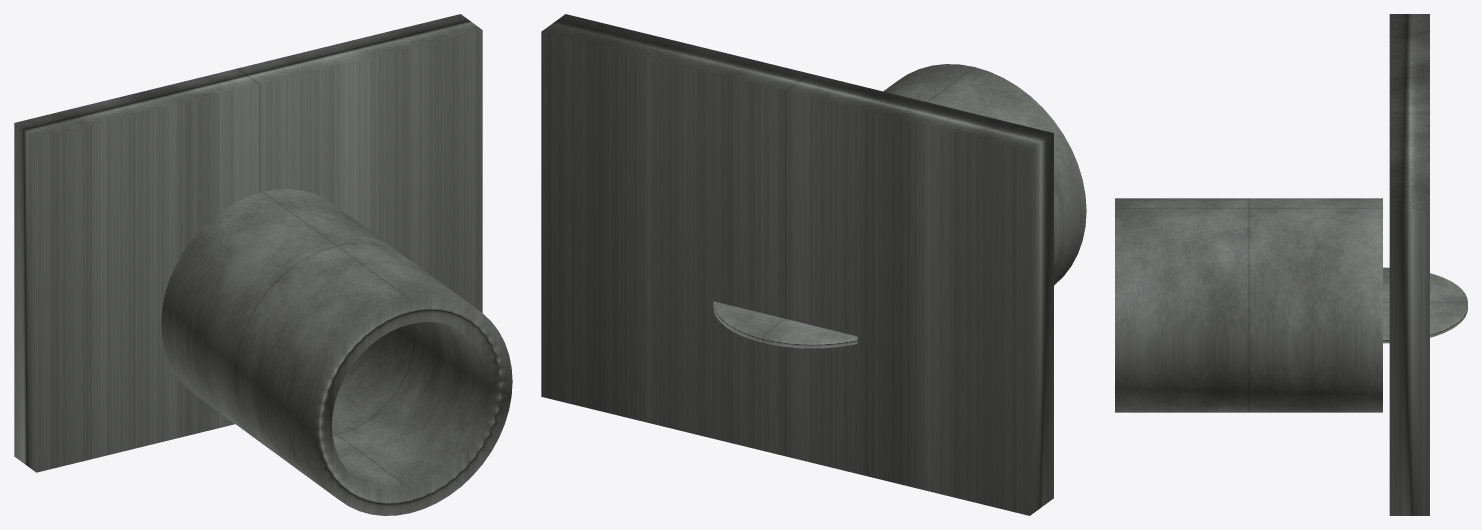
File: HILL_CulvertHeadwall_2m.obj
The picture shows the model from 3 angles, left to right: view 1: azimuth 30°, elevation 25°; view 2: azimuth 150°, elevation 25°; view 3: azimuth 270°, elevation 25°; orthographic projection. The views are drawn at different scales.
Visible parts, largest first — view 1: HILL_CulvertHeadwall_2m; view 2: HILL_CulvertHeadwall_2m; view 3: HILL_CulvertHeadwall_2m.
Part boxes in pixels (x1,y1,x2,y2): HILL_CulvertHeadwall_2m: [14, 14, 512, 515]; HILL_CulvertHeadwall_2m: [541, 14, 1086, 515]; HILL_CulvertHeadwall_2m: [1115, 14, 1467, 515].
Size of the model in its own units: 2.1 by 1.5 by 1.58.
1 material, 1 textured.
